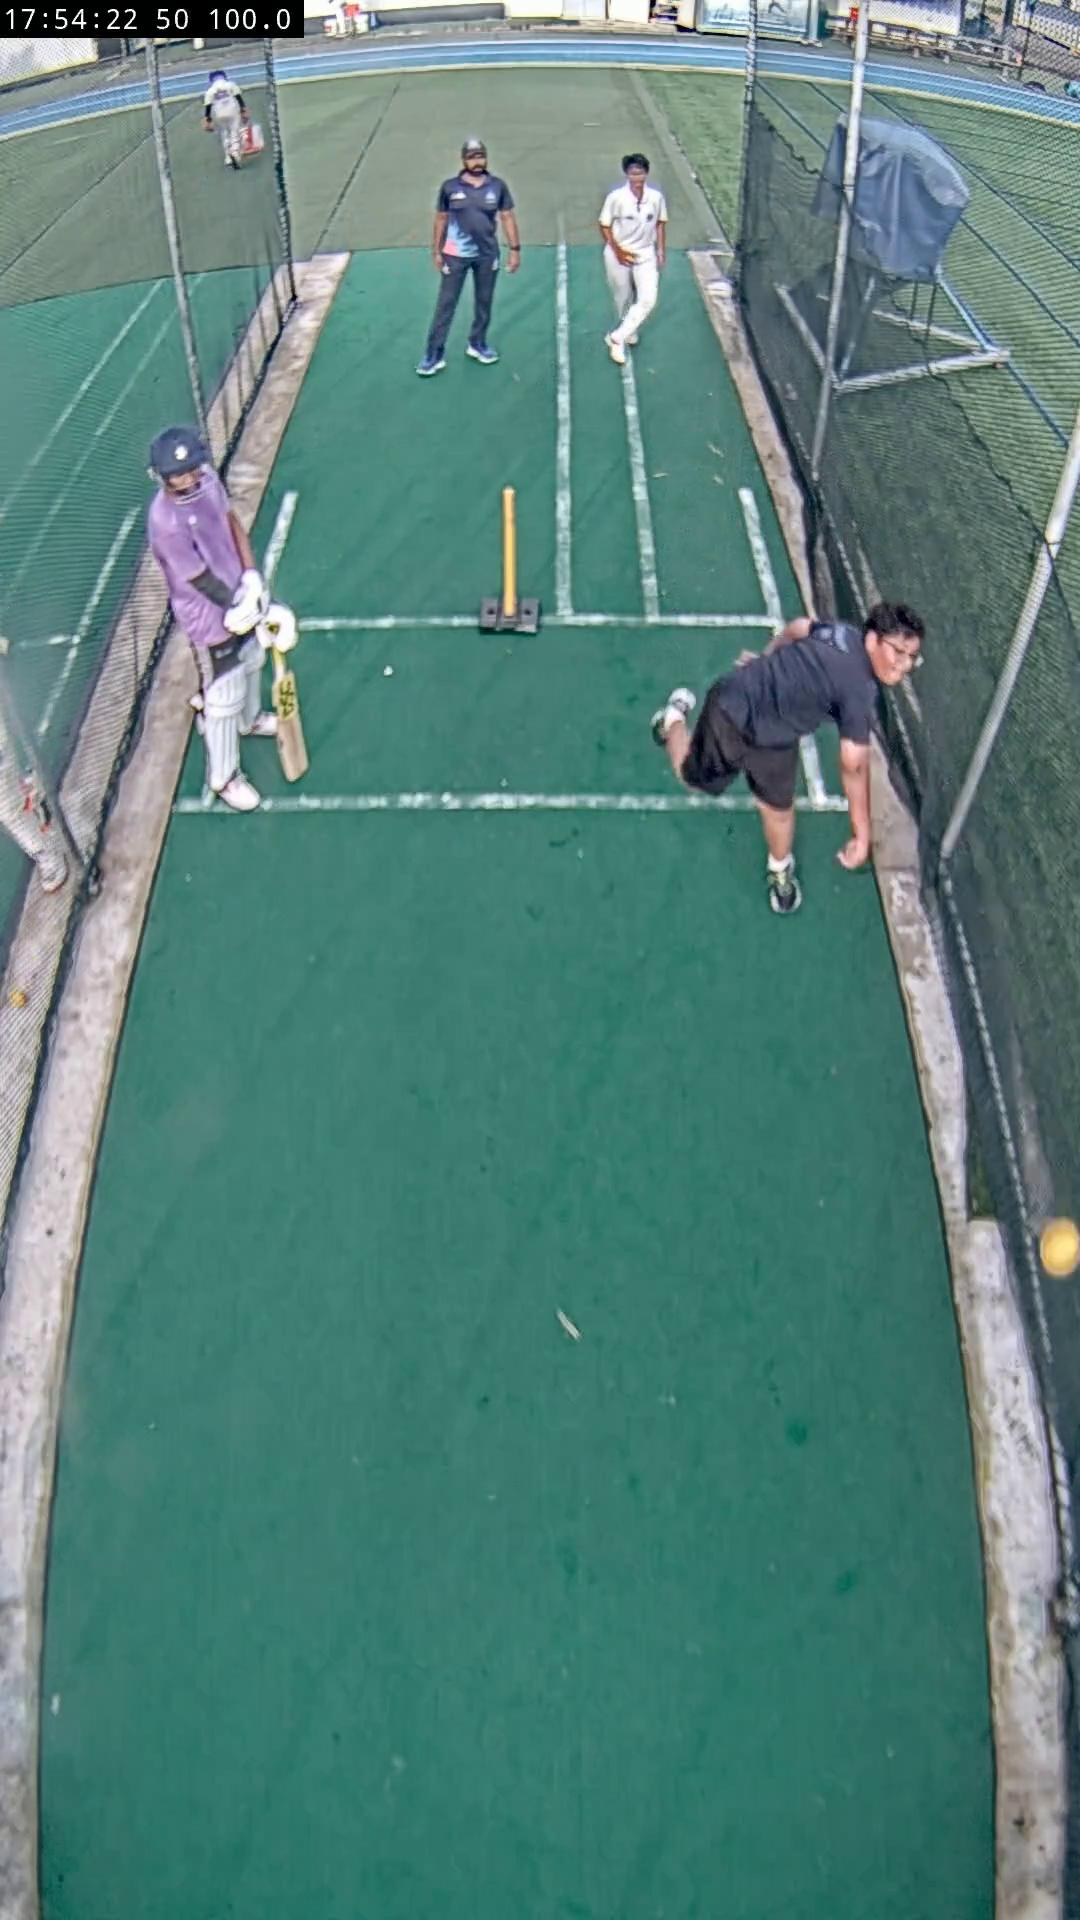ball: (1039, 1215, 1080, 1279)
stumps: (480, 488, 541, 634)
